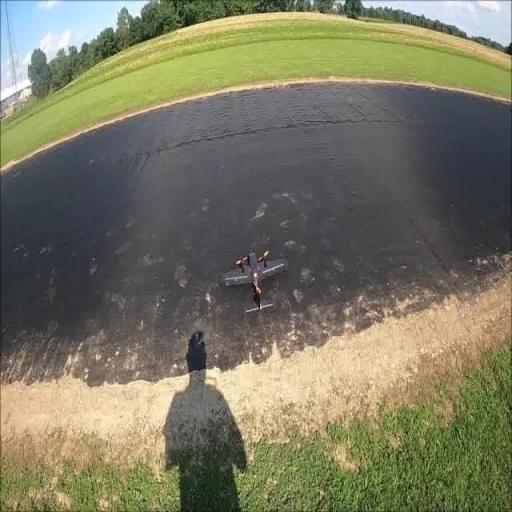uav: (218, 241, 290, 327)
